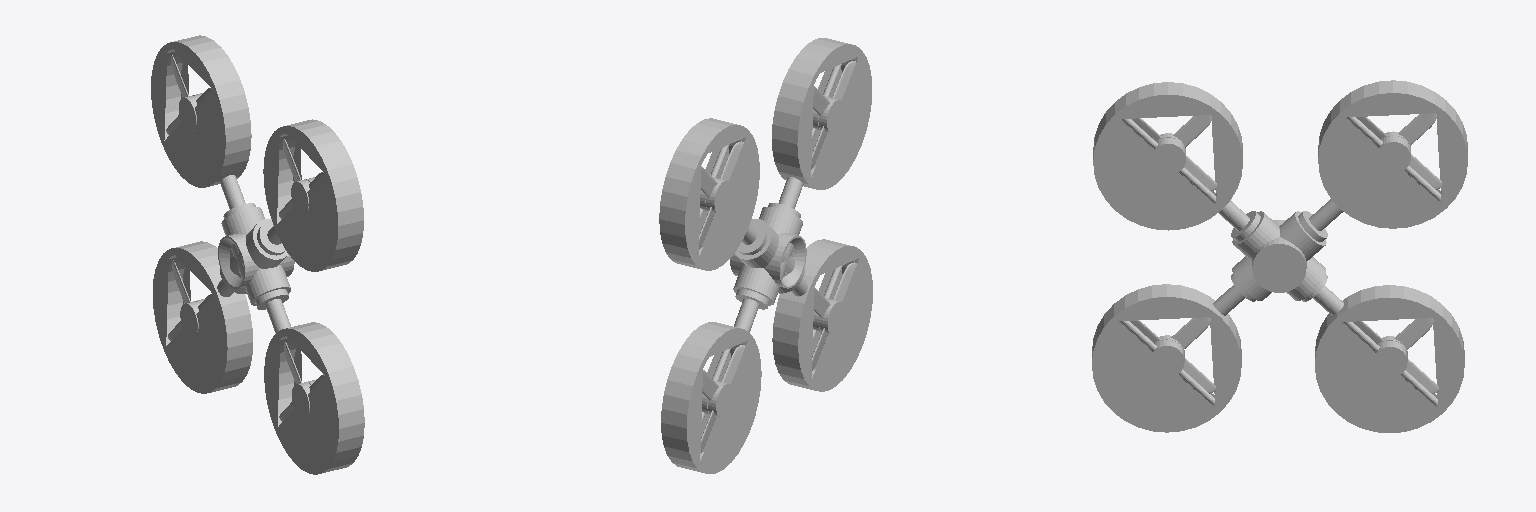
The model's file is Dron01.obj.
3 renders of one model, left to right at view 1: azimuth 30°, elevation 25°; view 2: azimuth 150°, elevation 25°; view 3: azimuth 270°, elevation 25°, orthographic.
Parts seen in each view (by area): view 1: Cylinder.022_Cylinder.023, Cylinder.015_Cylinder.016, Cylinder.007, Cylinder.014_Cylinder.015, Cylinder.004, Cylinder, Cylinder.001, Cylinder.006, Cylinder.011_Cylinder.012, Cylinder.019_Cylinder.020, Cylinder.018_Cylinder.019, Cylinder.010_Cylinder.011; view 2: Cylinder.014_Cylinder.015, Cylinder.007, Cylinder.015_Cylinder.016, Cylinder.022_Cylinder.023, Cylinder.001, Cylinder, Cylinder.004, Cylinder.005, Cylinder.010_Cylinder.011, Cylinder.019_Cylinder.020, Cylinder.011_Cylinder.012, Cylinder.018_Cylinder.019; view 3: Cylinder.015_Cylinder.016, Cylinder.007, Cylinder.022_Cylinder.023, Cylinder.014_Cylinder.015, Cylinder, Cylinder.004, Cylinder.001, Cylinder.006, Cylinder.005, Cylinder.020_Cylinder.021, Cylinder.009_Cylinder.010, Cylinder.017_Cylinder.018 (+11 smaller).
Part boxes in pixels (left/top/right/bottom): Cylinder.022_Cylinder.023: left=264, top=322, right=364, bottom=474; Cylinder.015_Cylinder.016: left=263, top=119, right=363, bottom=271; Cylinder.007: left=151, top=35, right=251, bottom=187; Cylinder.014_Cylinder.015: left=153, top=241, right=252, bottom=393; Cylinder.004: left=221, top=207, right=290, bottom=305; Cylinder: left=218, top=234, right=294, bottom=288; Cylinder.001: left=220, top=219, right=288, bottom=293; Cylinder.006: left=220, top=175, right=290, bottom=332; Cylinder.011_Cylinder.012: left=180, top=301, right=199, bottom=336; Cylinder.019_Cylinder.020: left=292, top=382, right=310, bottom=417; Cylinder.018_Cylinder.019: left=291, top=179, right=309, bottom=215; Cylinder.010_Cylinder.011: left=179, top=95, right=197, bottom=131; Cylinder.014_Cylinder.015: left=661, top=322, right=761, bottom=473; Cylinder.007: left=659, top=118, right=759, bottom=270; Cylinder.015_Cylinder.016: left=772, top=38, right=871, bottom=189; Cylinder.022_Cylinder.023: left=772, top=239, right=872, bottom=391; Cylinder.001: left=733, top=207, right=802, bottom=305; Cylinder: left=730, top=233, right=806, bottom=288; Cylinder.004: left=735, top=219, right=804, bottom=293; Cylinder.005: left=734, top=177, right=803, bottom=332; Cylinder.010_Cylinder.011: left=706, top=178, right=731, bottom=214; Cylinder.019_Cylinder.020: left=819, top=299, right=844, bottom=335; Cylinder.011_Cylinder.012: left=708, top=382, right=733, bottom=417; Cylinder.018_Cylinder.019: left=818, top=98, right=843, bottom=133; Cylinder.015_Cylinder.016: left=1093, top=82, right=1242, bottom=230; Cylinder.007: left=1318, top=80, right=1467, bottom=228; Cylinder.022_Cylinder.023: left=1092, top=284, right=1241, bottom=432; Cylinder.014_Cylinder.015: left=1315, top=285, right=1464, bottom=432; Cylinder: left=1252, top=220, right=1306, bottom=292; Cylinder.004: left=1232, top=211, right=1326, bottom=300; Cylinder.001: left=1232, top=211, right=1325, bottom=300; Cylinder.006: left=1213, top=199, right=1343, bottom=315; Cylinder.005: left=1219, top=200, right=1343, bottom=315; Cylinder.020_Cylinder.021: left=1151, top=340, right=1184, bottom=373; Cylinder.009_Cylinder.010: left=1377, top=136, right=1410, bottom=169; Cylinder.017_Cylinder.018: left=1154, top=138, right=1185, bottom=171.
Bounding box in the file's own units: 0.6402 × 4.2 × 4.21.